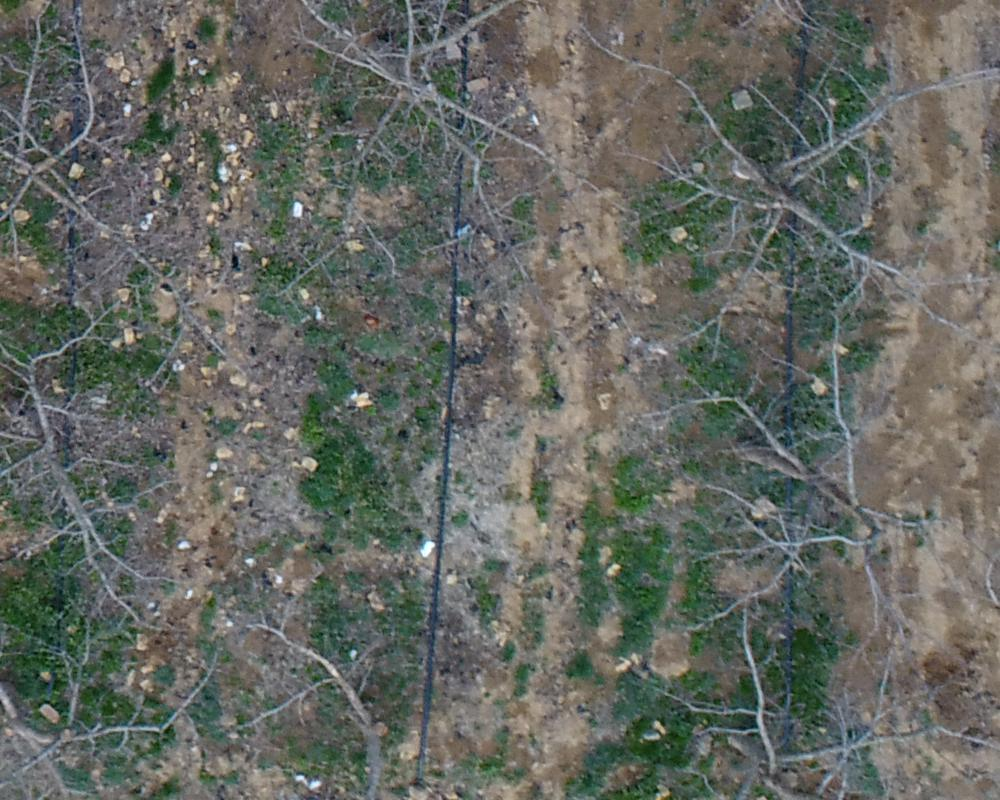apple: (208, 10, 753, 282), (566, 20, 990, 351), (619, 304, 958, 657), (10, 310, 209, 648), (10, 10, 210, 330), (234, 601, 460, 790)
